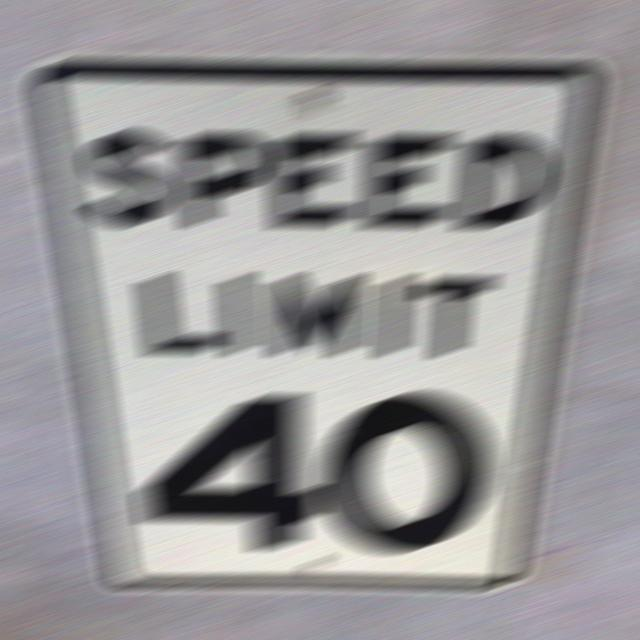speedLimit40: (23, 54, 597, 586)
